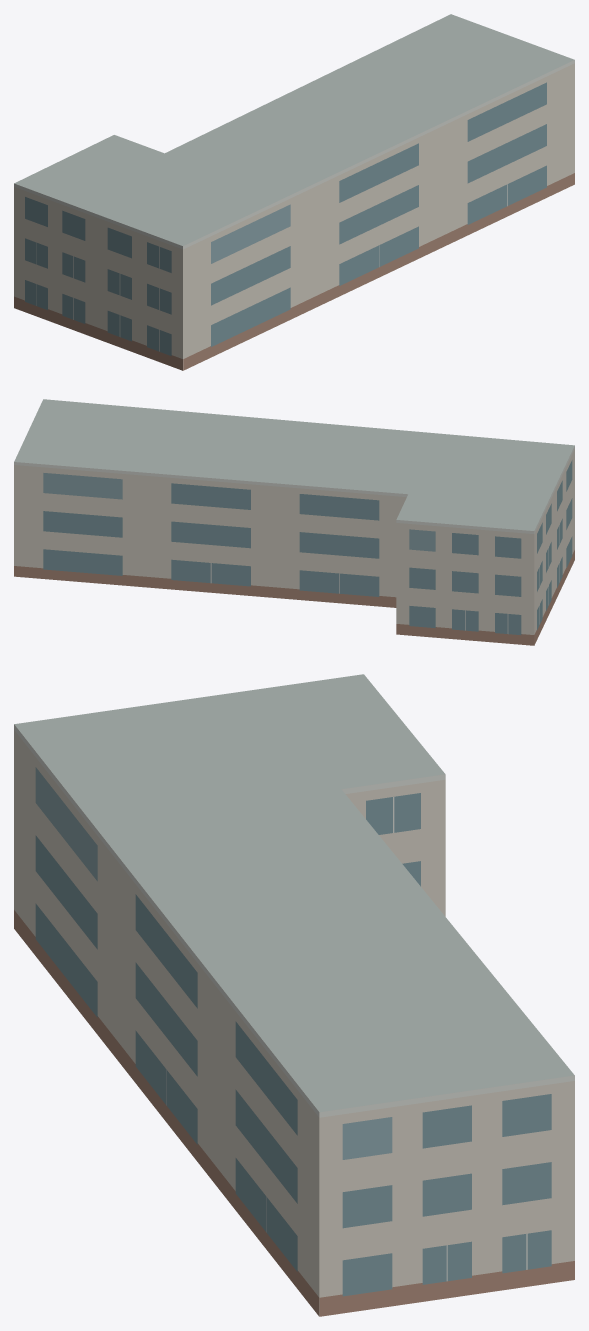
Rendered from survey-upis-33033354.glb.
3 renders of one model, top to bottom at view 1: azimuth 30°, elevation 25°; view 2: azimuth 150°, elevation 25°; view 3: azimuth 270°, elevation 25°, orthographic. The views are drawn at different scales.
Parts seen in each view (by area): view 1: survey-upis-33033354.tmp; view 2: survey-upis-33033354.tmp; view 3: survey-upis-33033354.tmp.
Boxes of the visible parts, left/top/right/bottom form: survey-upis-33033354.tmp: left=14, top=14, right=574, bottom=370; survey-upis-33033354.tmp: left=14, top=399, right=574, bottom=645; survey-upis-33033354.tmp: left=14, top=674, right=574, bottom=1316.
Size of the model in its own units: 42.06 by 9.15 by 22.75.
